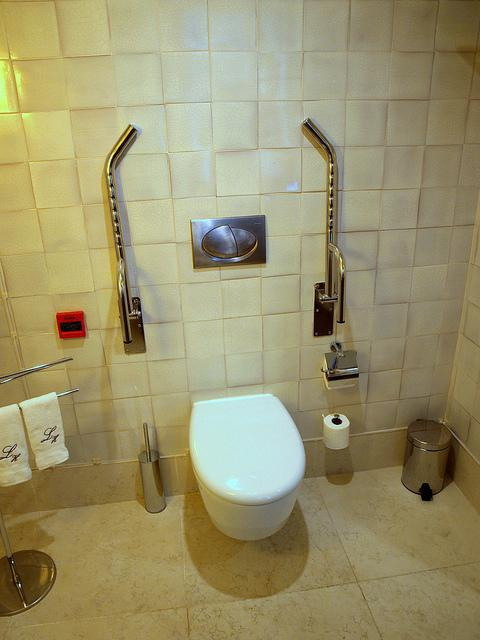Bote de Basura: (402, 410, 456, 500)
Sanitario: (181, 390, 307, 552)
